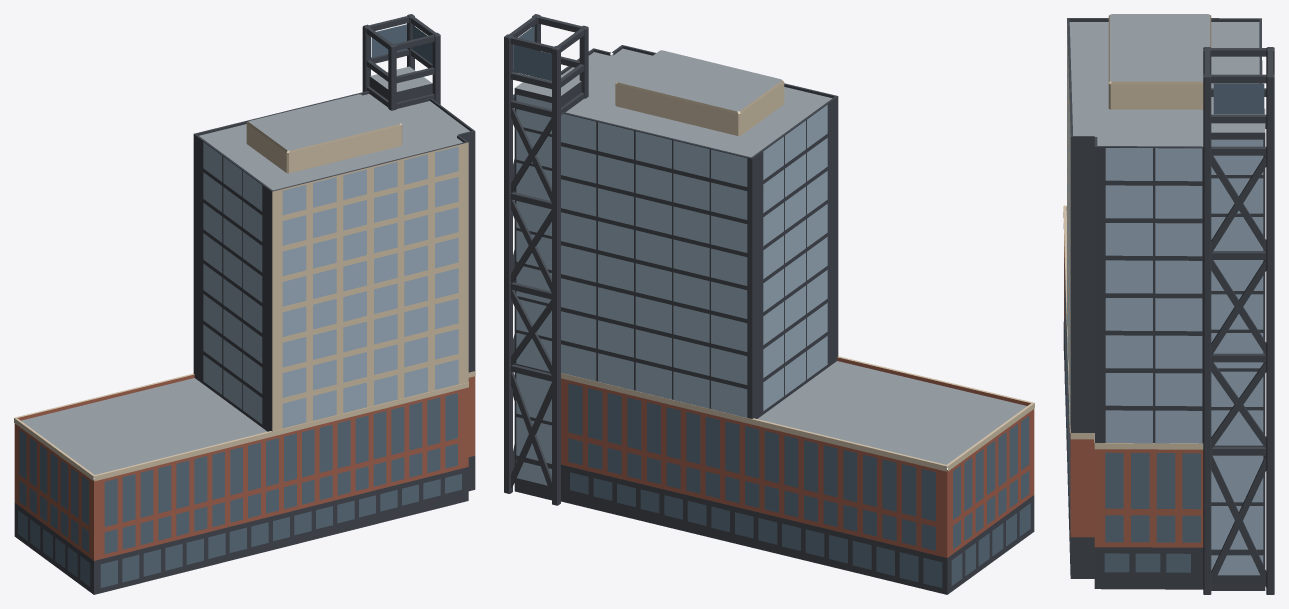
Rendered from clt-design-center-tower.glb.
3 views of the same model, side by side, from view 1: azimuth 30°, elevation 25°; view 2: azimuth 150°, elevation 25°; view 3: azimuth 270°, elevation 25° (orthographic). The views are drawn at different scales.
Parts seen in each view (by area): view 1: Design Center Tower; view 2: Design Center Tower; view 3: Design Center Tower.
Part boxes in pixels (x1=…): Design Center Tower: x1=14, y1=14, x2=475, y2=594; Design Center Tower: x1=504, y1=14, x2=1034, y2=594; Design Center Tower: x1=1063, y1=14, x2=1274, y2=594.
Size of the model in its own units: 112 by 111 by 41.12.
